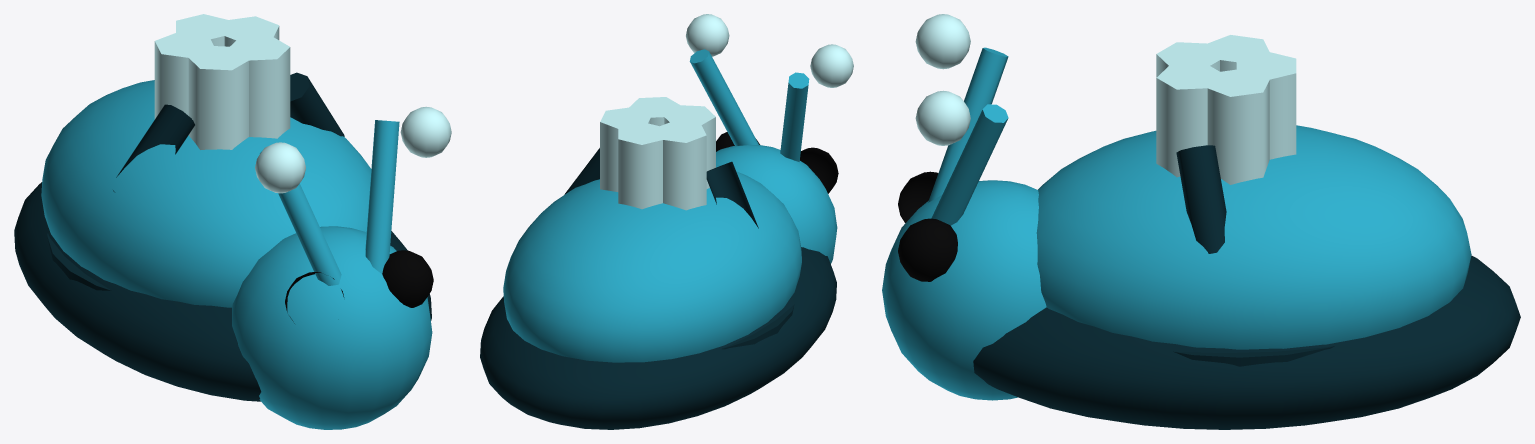
File: ventisca.obj
3 views of the same model, side by side, from view 1: azimuth 30°, elevation 25°; view 2: azimuth 150°, elevation 25°; view 3: azimuth 270°, elevation 25° (orthographic). The views are drawn at different scales.
Size of the model in its own units: 0.472 by 0.446 by 0.7635.
